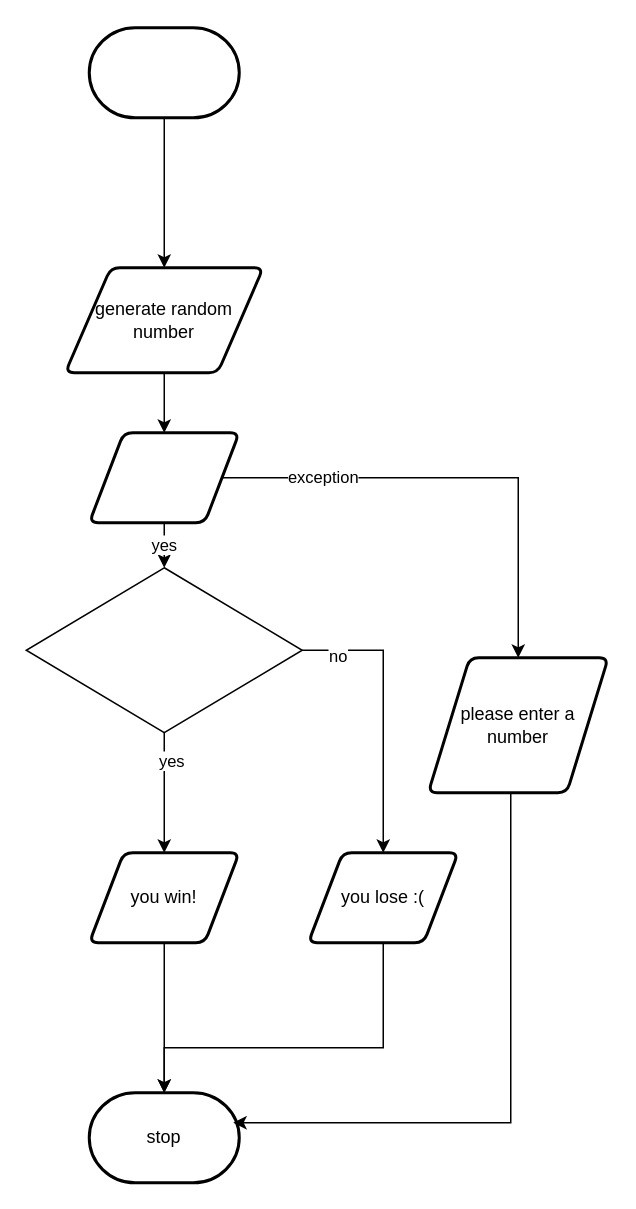
Image size: 636x1209. Some labels were removed from this diagram. The centre of each missing label's shape, as x and y in pixels:
"if RandomNumber is = to NumberAnswer" belongs at (x=163, y=649).
"start" belongs at (x=163, y=72).
"try" belongs at (x=163, y=477).
